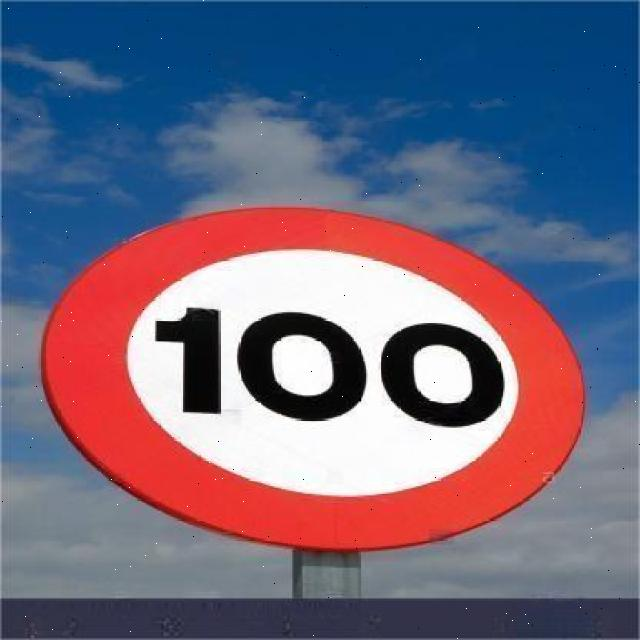speed limit 100: (41, 205, 584, 550)
